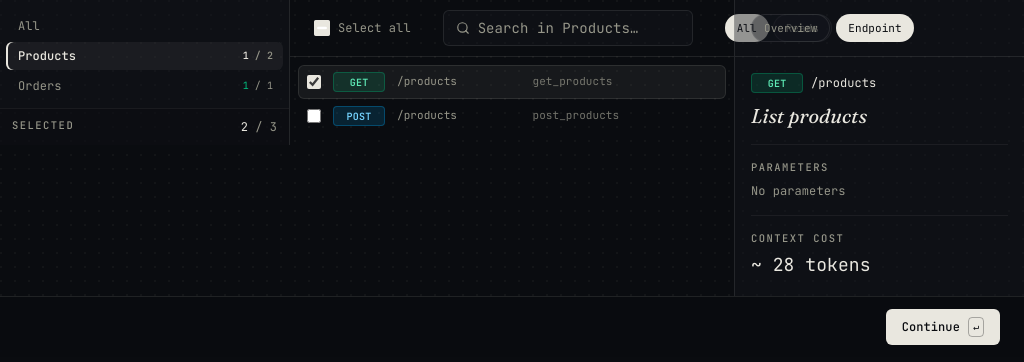
it: <SelectionScreen> 3-col layout (phase 04bis) › switches the centre list when a rail tag is clicked
The width and height of the screenshot is (1024, 362).
Step 1. Click the button with aria-label "tag: orders" → coordinates (40, 86), box [6,72,283,100]
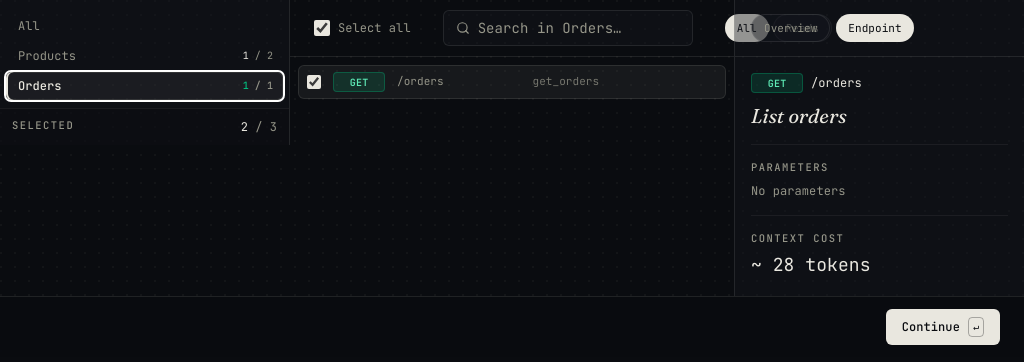
Result: the heading "List orders" is shown at [751,104,847,129]
Result: the heading "List products" is gone
